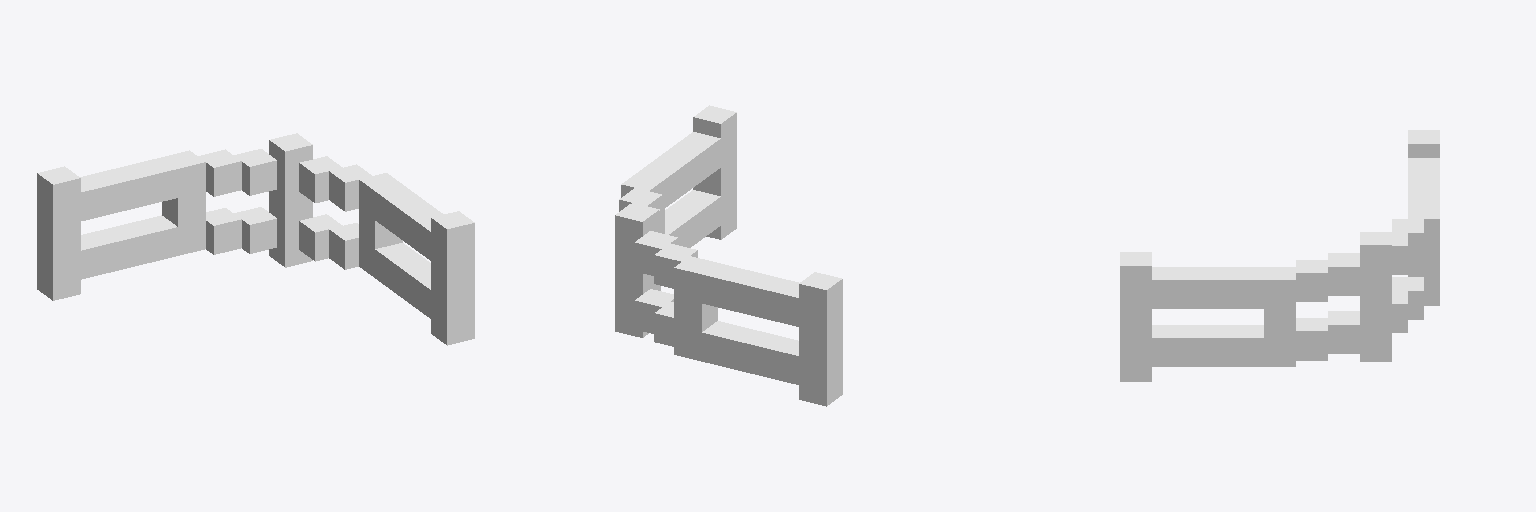
File: wall_corner.obj
3 renders of one model, left to right at view 1: azimuth 30°, elevation 25°; view 2: azimuth 150°, elevation 25°; view 3: azimuth 270°, elevation 25°, orthographic.
Visible parts, largest first — view 1: object 1; view 2: object 1; view 3: object 1.
Part boxes in pixels (bbox=[...]): object 1: bbox=[37, 133, 474, 345]; object 1: bbox=[615, 105, 842, 406]; object 1: bbox=[1120, 130, 1439, 381].
Size of the model in its own units: 2 by 0.8 by 2.